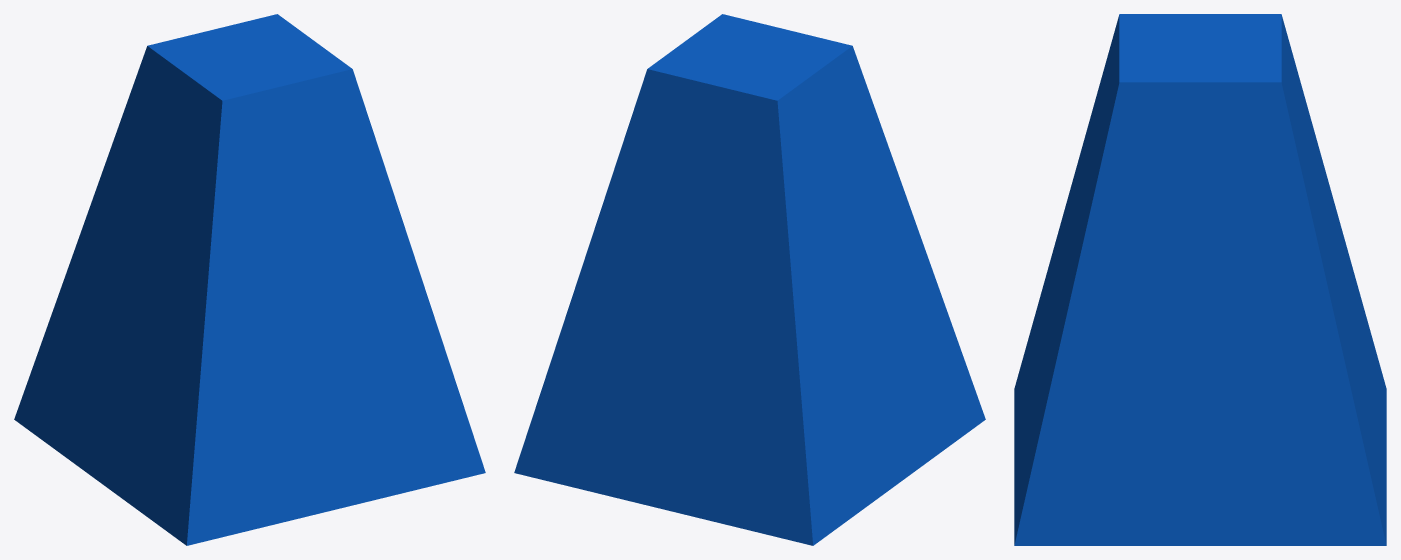
File: Obelisk.glb
3 renders of one model, left to right at view 1: azimuth 30°, elevation 25°; view 2: azimuth 150°, elevation 25°; view 3: azimuth 270°, elevation 25°, orthographic. The views are drawn at different scales.
Parts seen in each view (by area): view 1: Obelisk-col; view 2: Obelisk-col; view 3: Obelisk-col.
Boxes of the visible parts, box(x1,y1,x2,y2) form: Obelisk-col: box(14, 14, 485, 545); Obelisk-col: box(514, 14, 985, 545); Obelisk-col: box(1014, 14, 1386, 545).
Bounding box in the file's own units: 1 × 1.24 × 1.
Materials: 1 (1 with a texture image).
